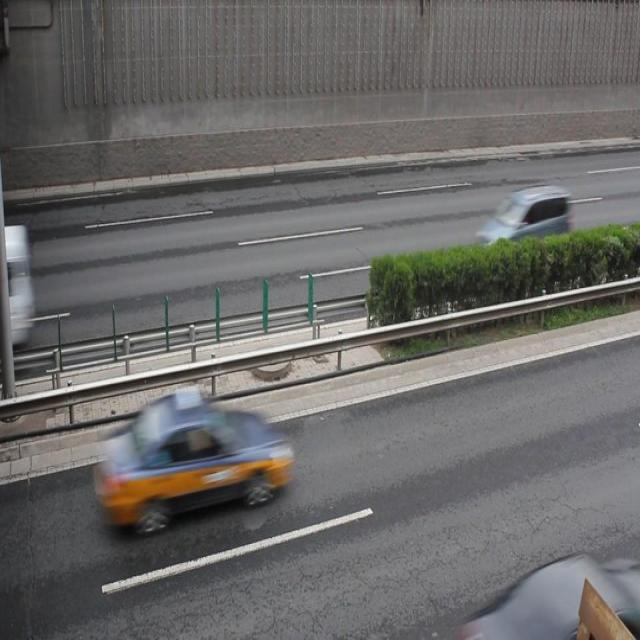car: (100, 386, 291, 536), (470, 547, 631, 640), (476, 184, 570, 269)
